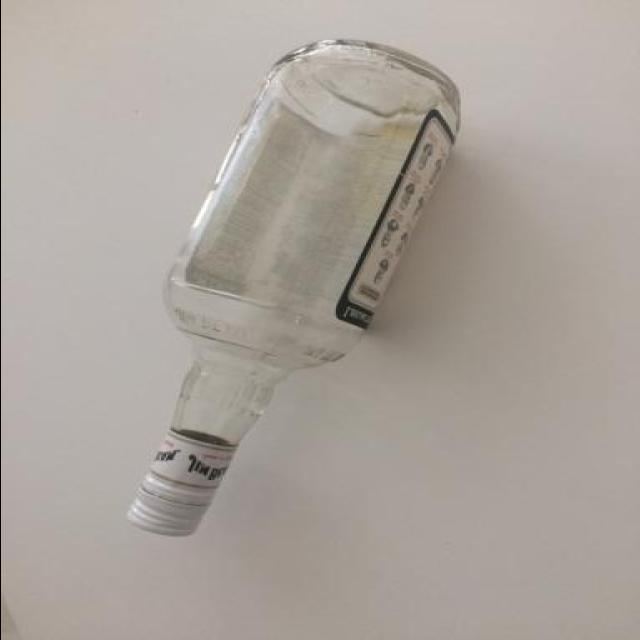glass: (127, 41, 460, 542)
